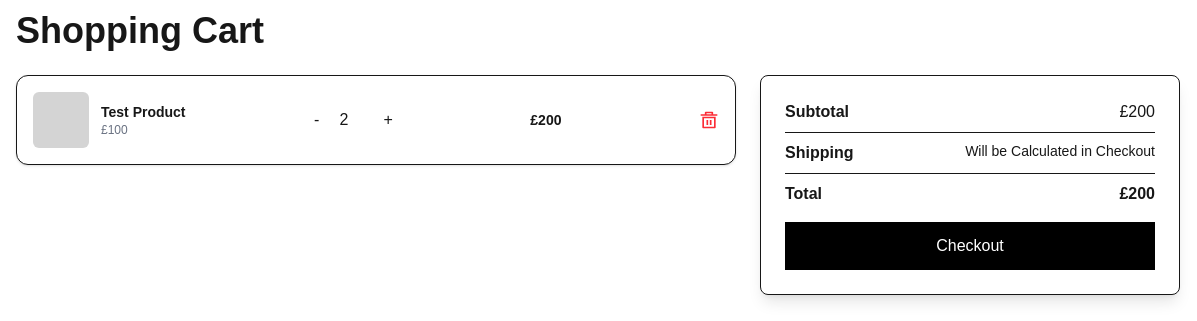
Test: CartPage Component › decrements item quantity correctly
Click the button "-" at (317, 120), box [314,108,319,132]
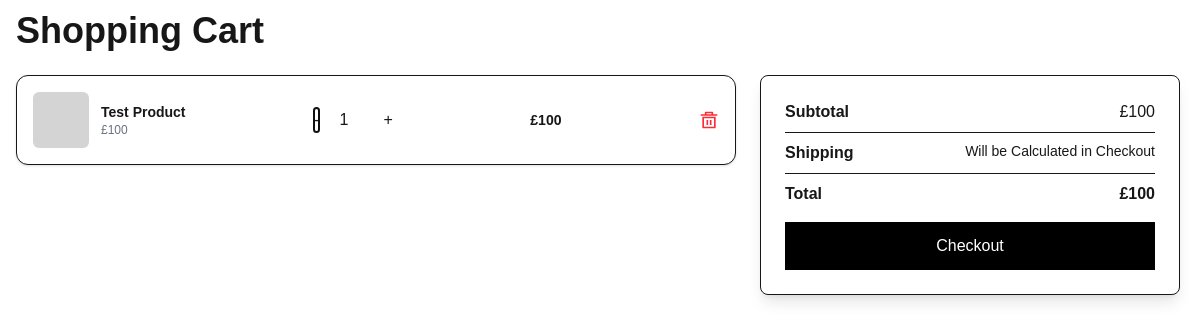
Check: the number field showing "2" holds "1", box [327,108,375,132]
Check: the 1st text "£100" is shown, box [530,112,562,128]
